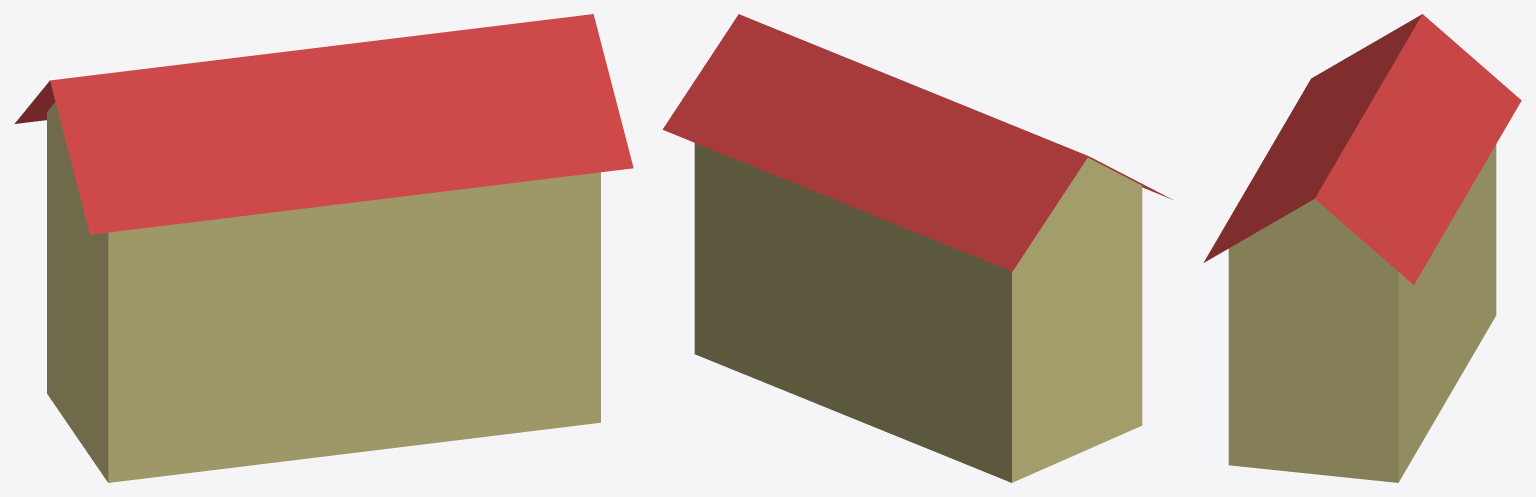
3 views of the same model, side by side, from view 1: azimuth 30°, elevation 25°; view 2: azimuth 150°, elevation 25°; view 3: azimuth 270°, elevation 25° (orthographic). The views are drawn at different scales.
Bounding box in the file's own units: 11.58 × 7.54 × 7.44.
